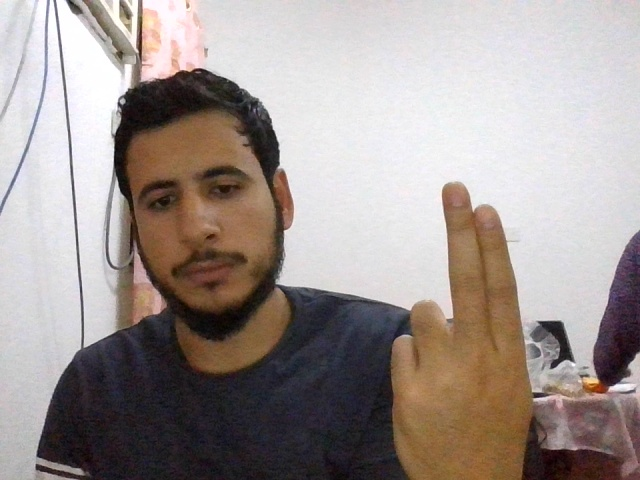Two: (389, 181, 536, 479)
